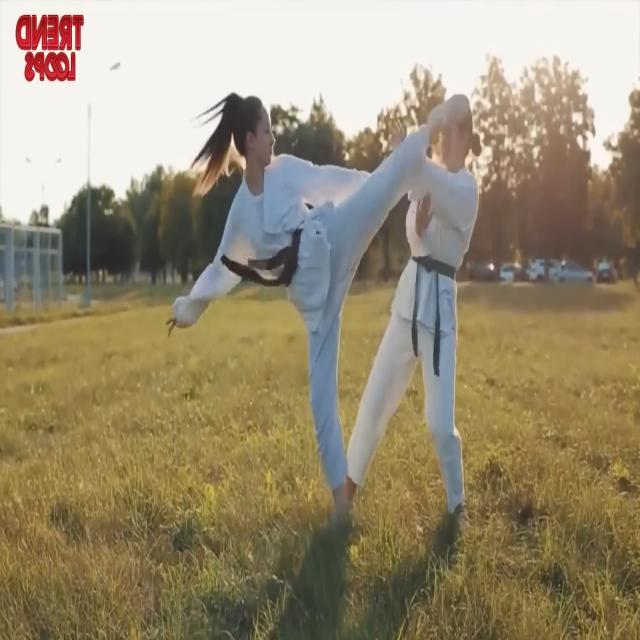violence: (169, 92, 479, 518)
